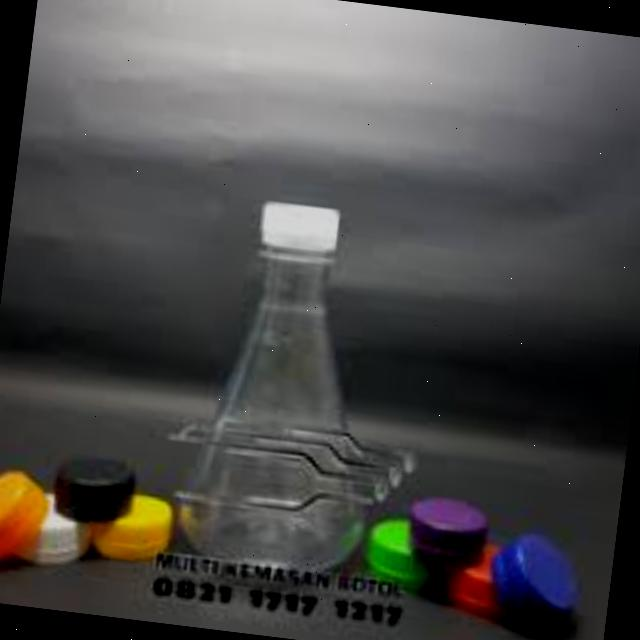trash: (168, 186, 398, 606)
